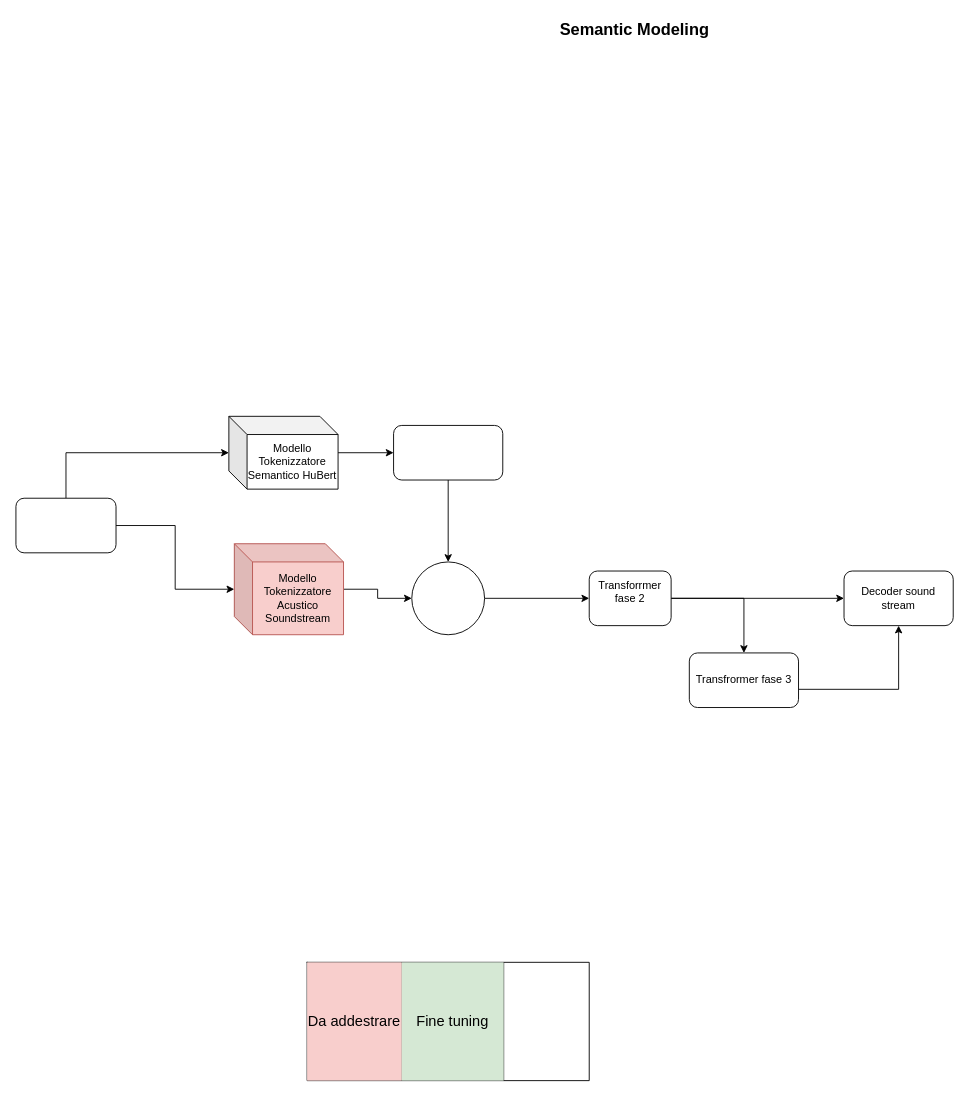
This 969x1097 diagram has some shape labels left out. The shapes that lost their labels are listed below. From the top down, each one's centre as x and y in pixels, then its label:
At (x=448, y=452): "Transforrmer fase 1".
At (x=65, y=525): "Audio input".
At (x=448, y=598): "cat".
